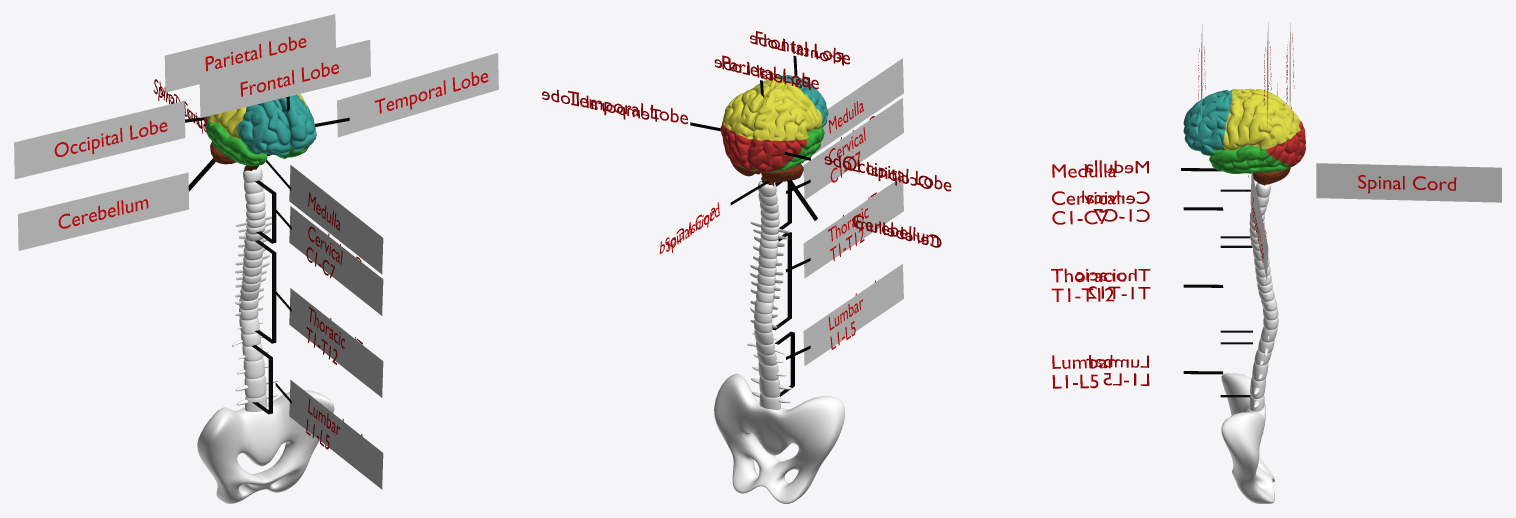
The model's file is brainspinal.glb.
The picture shows the model from 3 angles, left to right: view 1: azimuth 30°, elevation 25°; view 2: azimuth 150°, elevation 25°; view 3: azimuth 270°, elevation 25°; orthographic projection. The views are drawn at different scales.
Parts seen in each view (by area): view 1: pCube1, Plane.008, Plane, Plane.006, Plane.010, Plane.002, pCylinder1, Brain_Part_06, Plane.012, Plane.018, Plane.014, Plane.016 (+7 smaller); view 2: pCube1, Brain_Part_06, pCylinder1, Plane.018, Plane.014, Plane.016, Plane.012, Brain_Part_04, Text.011, Brain_Part_02, Text.007, Text.003 (+4 smaller); view 3: Brain_Part_04, Plane.004, pCube1, pCylinder1, Brain_Part_06, Plane.010, Text.016, Text.013, Text.018.
Boxes of the visible parts, box(x1,y1,x2,y2) form: pCube1: box(197, 390, 334, 503); Plane.008: box(18, 172, 189, 250); Plane: box(199, 39, 370, 117); Plane.006: box(14, 101, 185, 179); Plane.010: box(337, 53, 498, 137); Plane.002: box(164, 14, 335, 92); pCylinder1: box(239, 166, 267, 411); Brain_Part_06: box(204, 99, 290, 166); Plane.012: box(289, 165, 383, 274); Plane.018: box(289, 380, 383, 489); Plane.014: box(289, 206, 383, 315); Plane.016: box(289, 288, 383, 397); pCube1: box(714, 373, 844, 503); Brain_Part_06: box(747, 77, 828, 172); pCylinder1: box(754, 180, 780, 409); Plane.018: box(803, 264, 903, 365); Plane.014: box(803, 98, 903, 199); Plane.016: box(803, 177, 903, 278); Plane.012: box(812, 58, 903, 154); Brain_Part_04: box(720, 75, 792, 169); Text.011: box(568, 91, 687, 124); Brain_Part_02: box(730, 159, 803, 182); Text.007: box(843, 156, 951, 191); Text.003: box(722, 55, 818, 89); Brain_Part_04: box(1183, 93, 1305, 173); Plane.004: box(1316, 163, 1501, 202); pCube1: box(1221, 373, 1274, 503); pCylinder1: box(1249, 182, 1278, 411); Brain_Part_06: box(1183, 88, 1305, 144); Plane.010: box(1250, 169, 1268, 280); Text.016: box(1051, 268, 1125, 301); Text.013: box(1052, 190, 1119, 224); Text.018: box(1052, 355, 1115, 388).
Size of the model in its own units: 5.57 by 5.14 by 5.34.
Materials: 5 (1 with a texture image).
